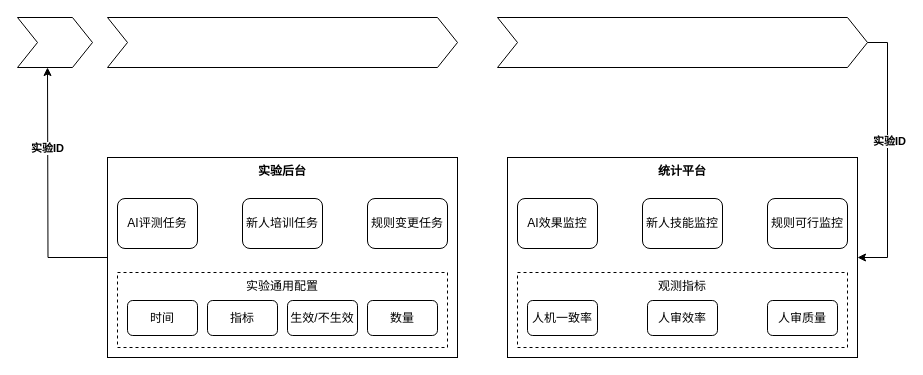
Image size: 923x375. Some labels were removed from this diagram. The centre of each missing label's shape, as x and y in pixels:
"人审" belongs at pixel 682 42.
"机审" belongs at pixel 282 42.
"进审" belongs at pixel 54 42.
